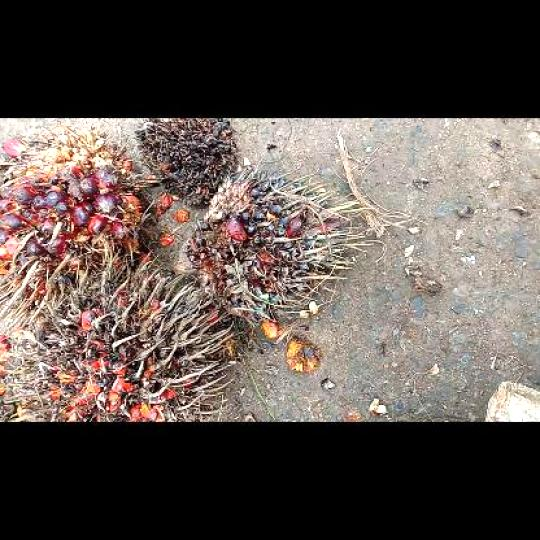masak: (1, 128, 155, 294)
terlalu masak: (1, 265, 230, 420)
